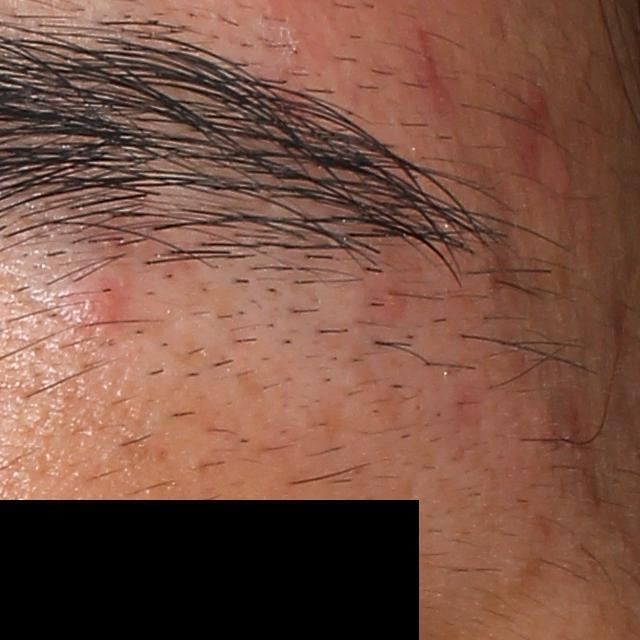papule: (70, 274, 130, 328), (525, 80, 551, 116)
